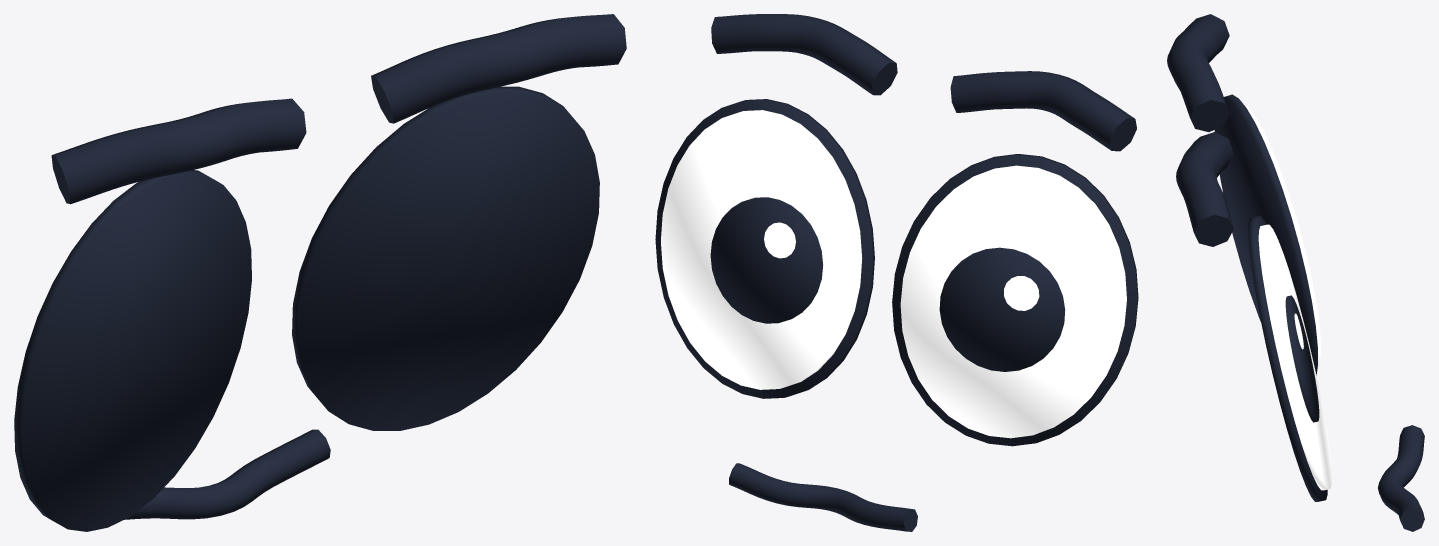
The model's file is cloud-face.glb.
The picture shows the model from 3 angles, left to right: view 1: azimuth 30°, elevation 25°; view 2: azimuth 150°, elevation 25°; view 3: azimuth 270°, elevation 25°; orthographic projection. The views are drawn at different scales.
Visible parts, largest first — view 1: EyeOutline_R, EyeOutline_L, Brow_R, Brow_L, Mouth; view 2: Eye_L, Eye_R, Pupil_L, Pupil_R, EyeOutline_L, EyeOutline_R, Brow_L, Brow_R, Mouth, Highlight_L, Highlight_R; view 3: EyeOutline_L, Eye_R, Brow_L, Brow_R, EyeOutline_R, Mouth, Pupil_R, Eye_L.
Boxes of the visible parts, x1,y1,x2,y2 form: EyeOutline_R: (292, 86, 599, 430); EyeOutline_L: (14, 170, 251, 531); Brow_R: (371, 14, 626, 123); Brow_L: (51, 98, 306, 204); Mouth: (124, 429, 330, 519); Eye_L: (900, 165, 1126, 438); Eye_R: (661, 110, 862, 389); Pupil_L: (939, 247, 1065, 371); Pupil_R: (710, 197, 823, 323); EyeOutline_L: (892, 154, 1138, 446); EyeOutline_R: (655, 99, 874, 398); Brow_L: (950, 71, 1136, 151); Brow_R: (711, 14, 897, 95); Mouth: (729, 463, 917, 531); Highlight_L: (1004, 276, 1039, 310); Highlight_R: (764, 222, 795, 258); EyeOutline_L: (1214, 94, 1317, 375); Eye_R: (1258, 224, 1331, 490); Brow_L: (1167, 14, 1229, 132); Brow_R: (1176, 132, 1233, 246); EyeOutline_R: (1248, 216, 1327, 501); Mouth: (1378, 425, 1424, 531); Pupil_R: (1285, 295, 1319, 422); Eye_L: (1243, 103, 1320, 369).
Bounding box in the file's own units: 0.5702 × 0.4768 × 0.2783.
